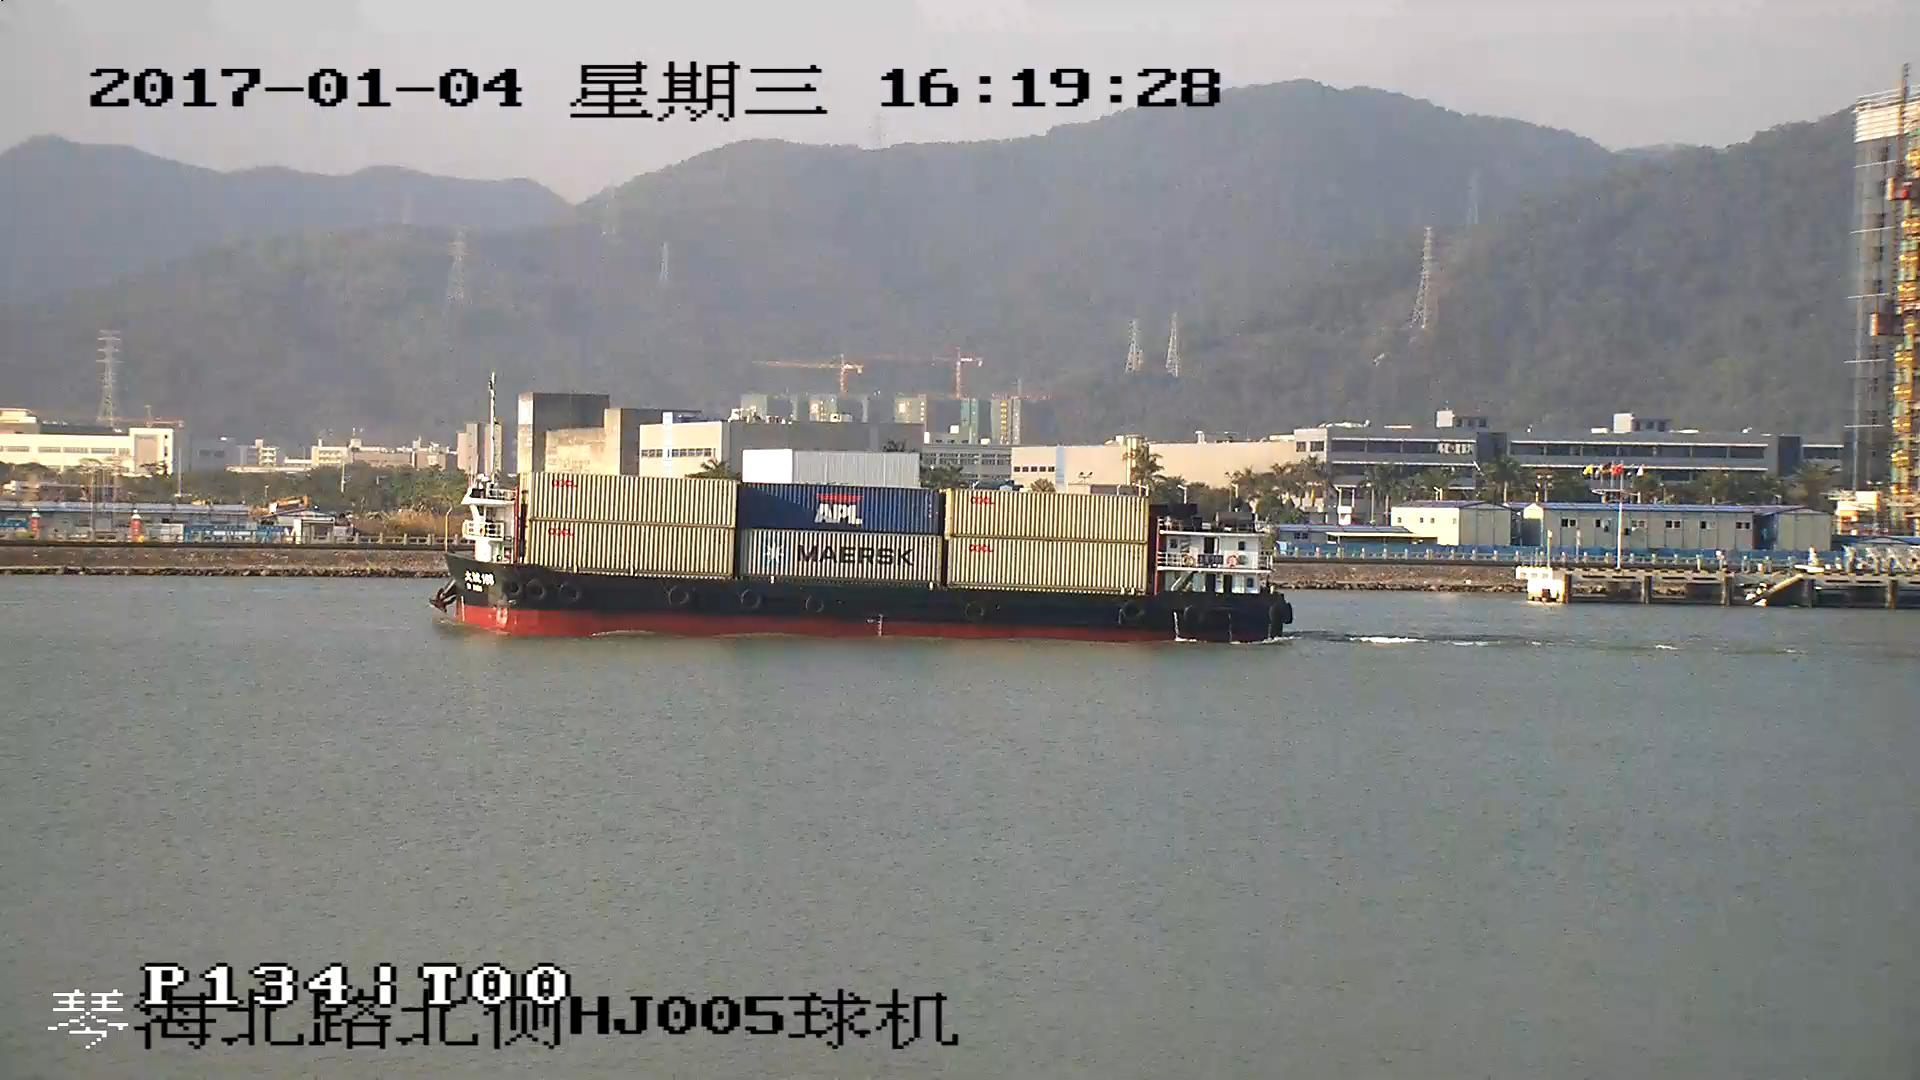Ship: (434, 469, 1294, 644)
